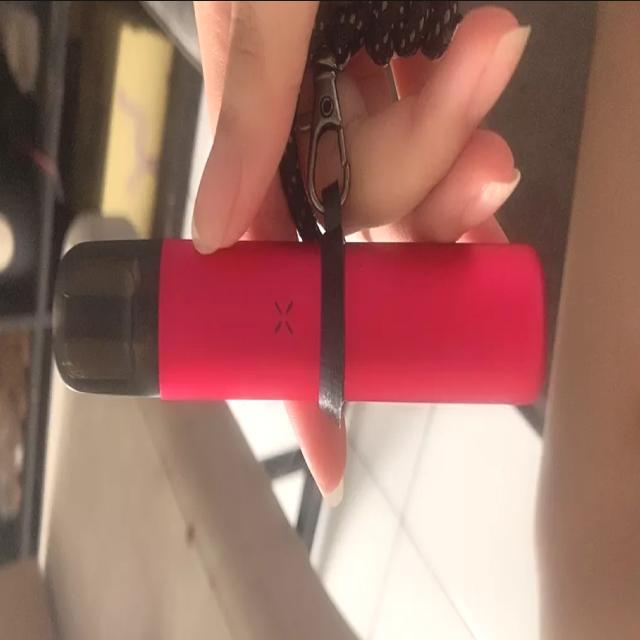Hazard: (46, 238, 548, 402)
